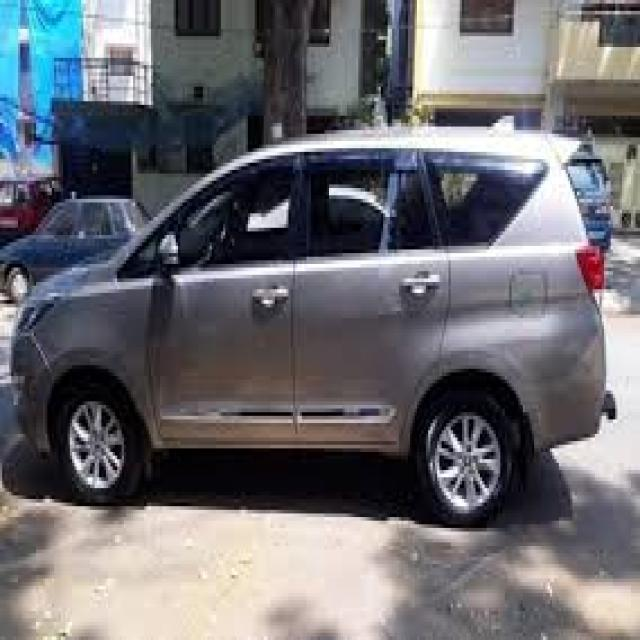light_vehicle: (11, 129, 606, 528)
